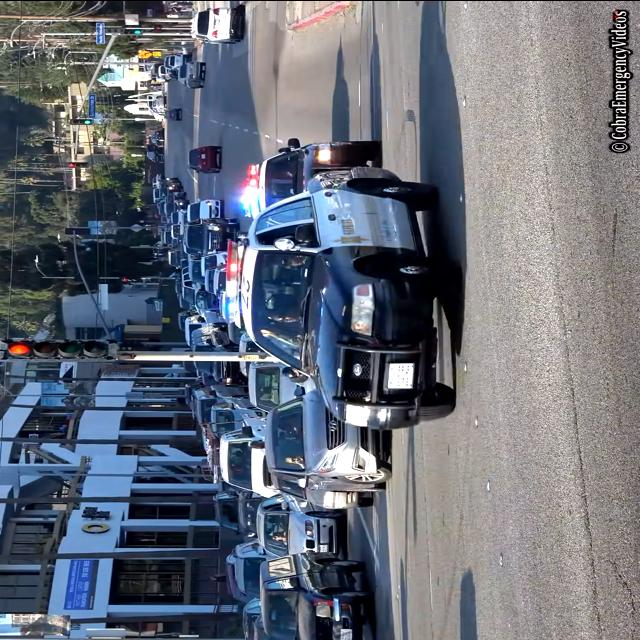emergency-vehicles: (207, 121, 502, 443)
